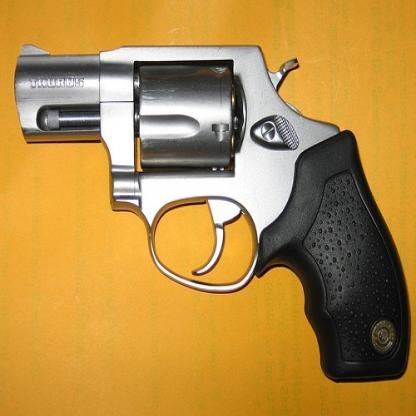gun: (2, 22, 416, 407)
